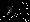person: (9, 6, 19, 18)
